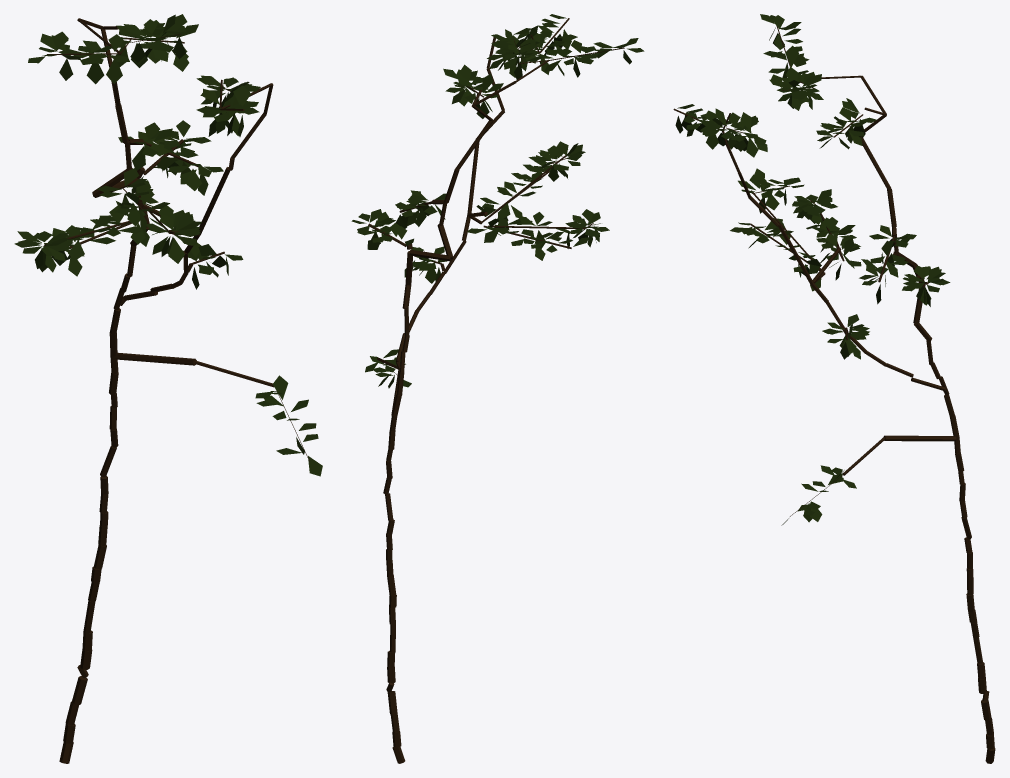
Rendered from 2022_tree_270.obj.
The picture shows the model from 3 angles, left to right: view 1: azimuth 30°, elevation 25°; view 2: azimuth 150°, elevation 25°; view 3: azimuth 270°, elevation 25°; orthographic projection. The views are drawn at different scales.
Visible parts, largest first — view 1: Leaves, TrunkAndBranches; view 2: Leaves, TrunkAndBranches; view 3: Leaves, TrunkAndBranches.
Part boxes in pixels (left/top/right/bottom): Leaves: left=14, top=14, right=322, bottom=476; TrunkAndBranches: left=44, top=18, right=309, bottom=763; Leaves: left=351, top=14, right=644, bottom=388; TrunkAndBranches: left=368, top=18, right=624, bottom=763; Leaves: left=675, top=14, right=950, bottom=525; TrunkAndBranches: left=673, top=26, right=995, bottom=763.
Bounding box in the file's own units: 3.95 × 10.12 × 4.3.
